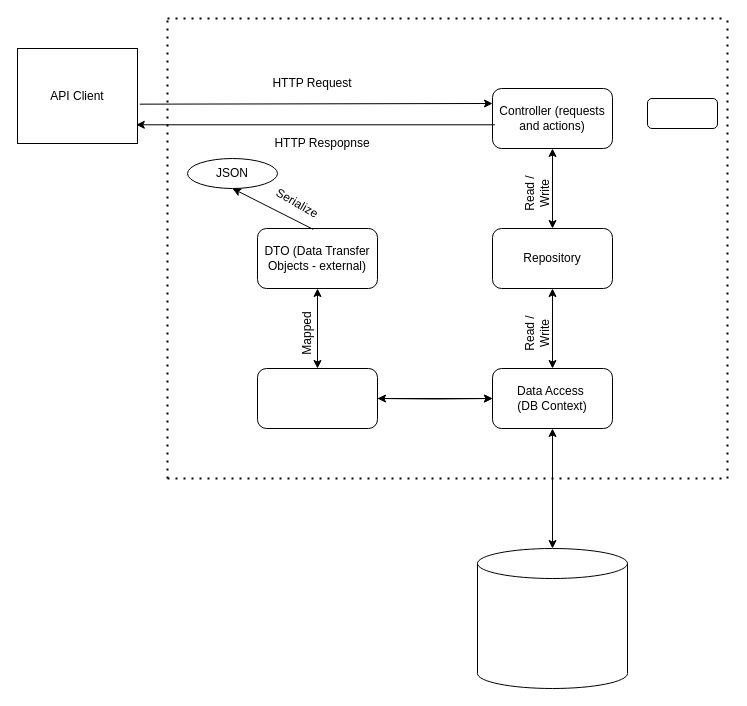
This 747x706 diagram has some shape labels left out. The centre of each missing label's shape, as x and y in pixels:
"Model" goes at pixel 317 398.
"Program.cs" goes at pixel 682 113.
"SQL Server DB" goes at pixel 552 618.
